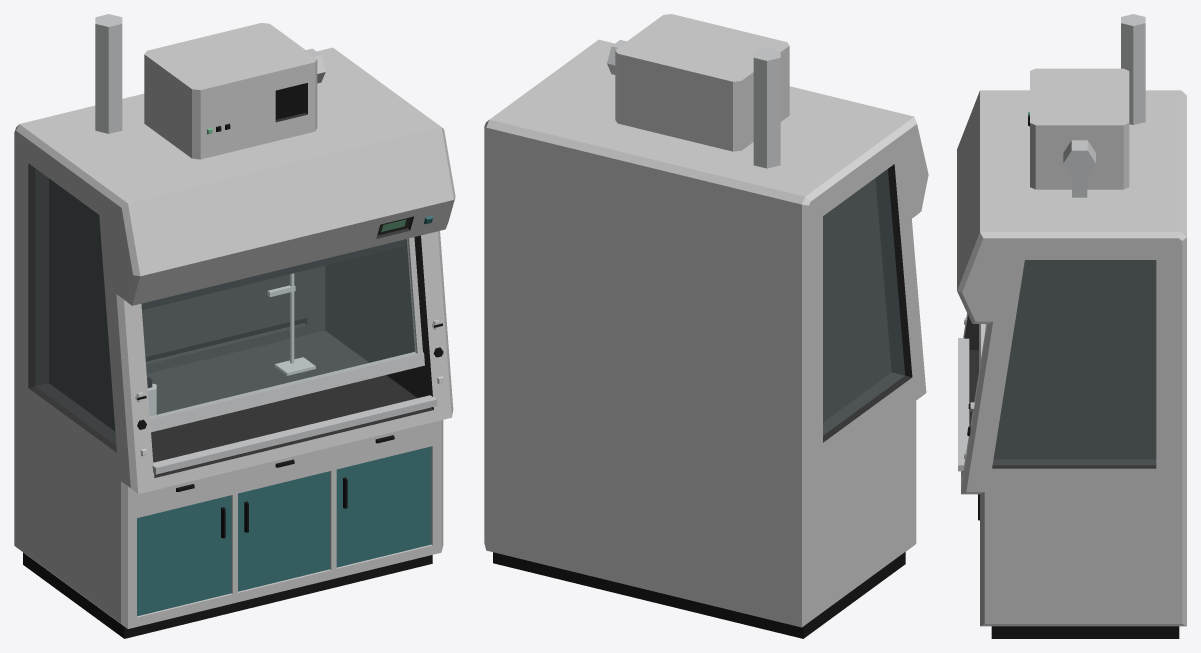
The model's file is walk-in-fume-hood-bbc294.glb.
3 renders of one model, left to right at view 1: azimuth 30°, elevation 25°; view 2: azimuth 150°, elevation 25°; view 3: azimuth 270°, elevation 25°, orthographic. The views are drawn at different scales.
Visible parts, largest first — view 1: walk-in-fume-hood, sash; view 2: walk-in-fume-hood; view 3: walk-in-fume-hood.
Part boxes in pixels (x1,y1,x2,y2): walk-in-fume-hood: [14, 14, 455, 638]; sash: [142, 237, 424, 432]; walk-in-fume-hood: [484, 14, 928, 638]; walk-in-fume-hood: [957, 14, 1186, 638].
Size of the model in its own units: 1.8 by 2.92 by 1.2.
